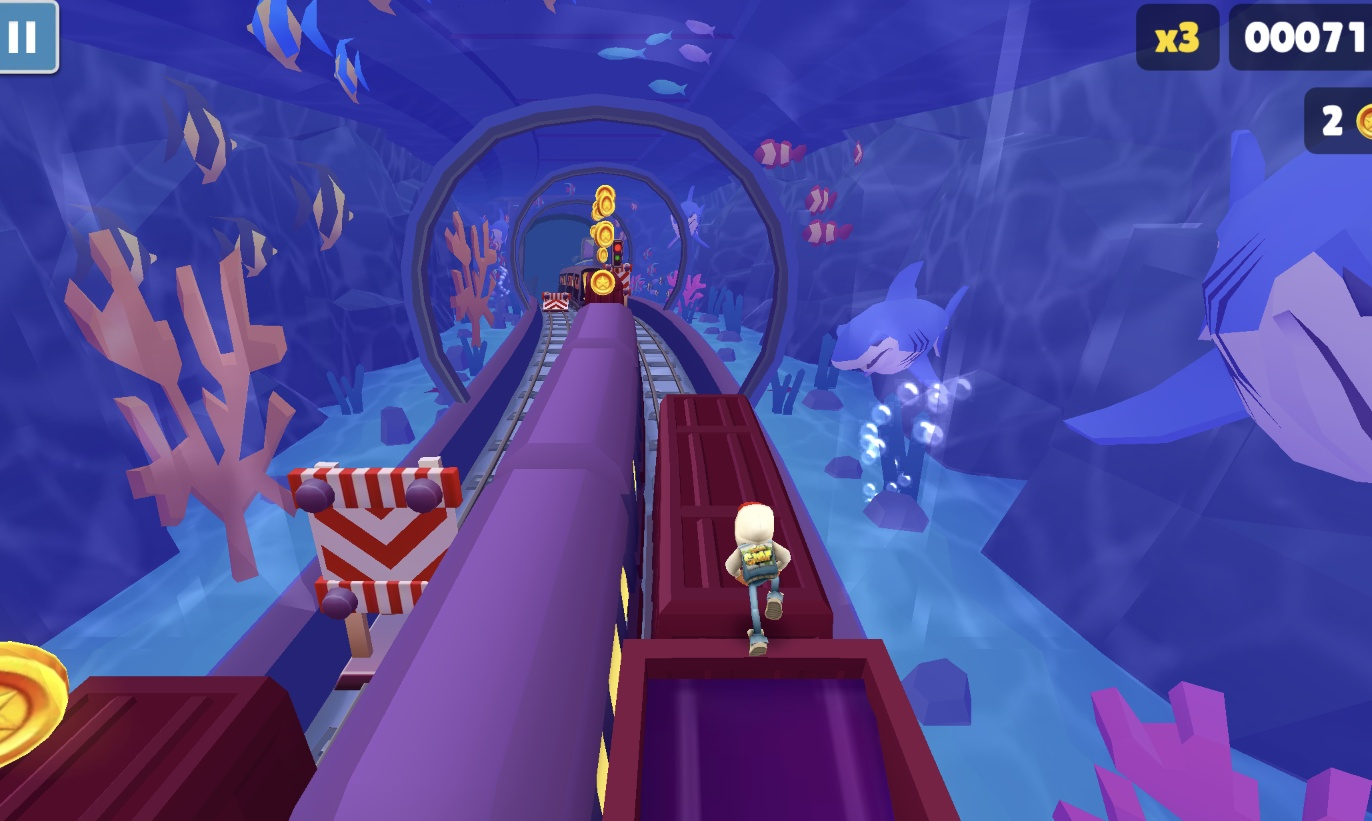ground_barrier: (536, 303, 576, 329)
overhead_barrier: (284, 458, 476, 688), (598, 265, 633, 305)
train: (285, 292, 646, 821), (589, 530, 958, 821), (0, 676, 290, 821), (629, 393, 787, 655), (561, 266, 619, 308)
